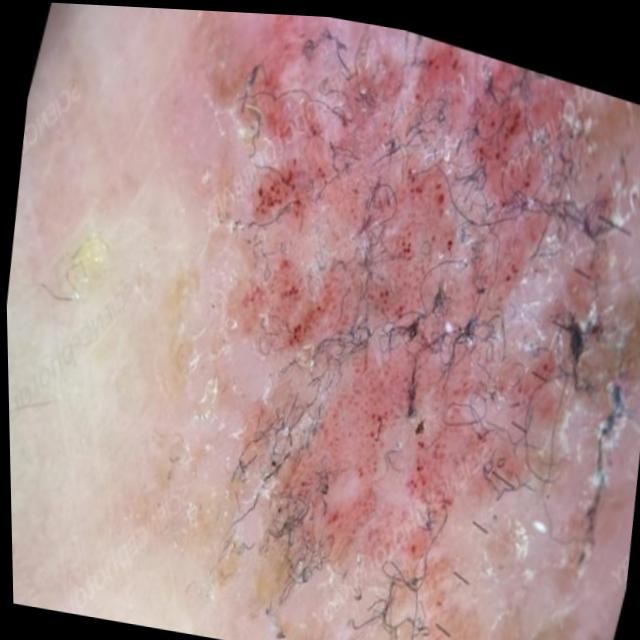Eczema: (147, 8, 640, 640)
